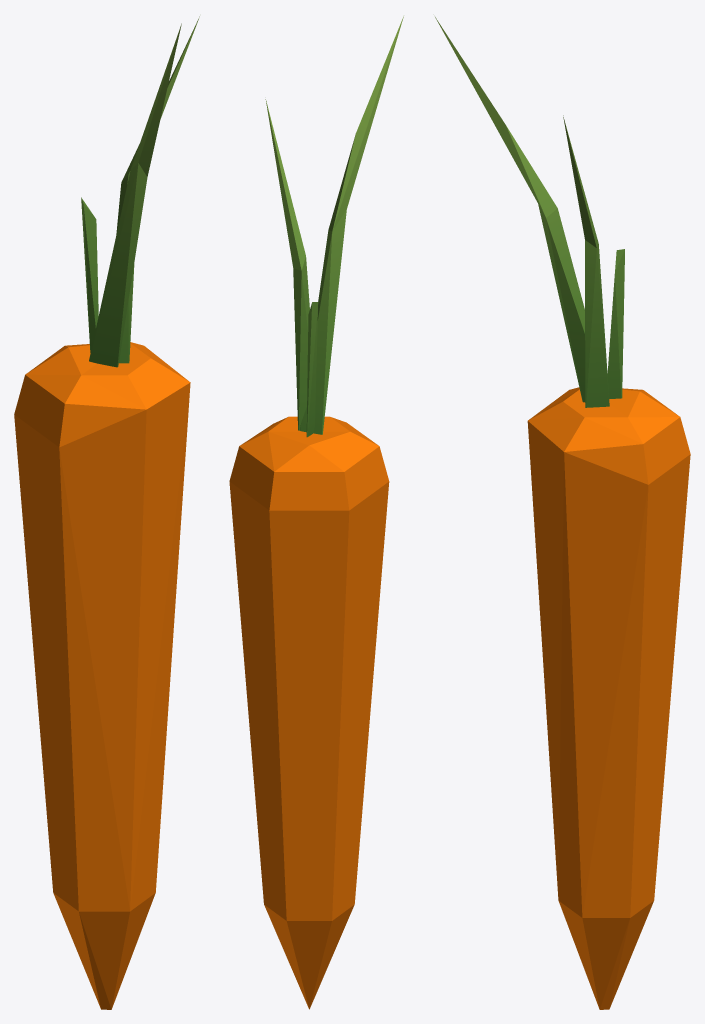
File: Food_05.fbx
The picture shows the model from 3 angles, left to right: view 1: azimuth 30°, elevation 25°; view 2: azimuth 150°, elevation 25°; view 3: azimuth 270°, elevation 25°; orthographic projection. The views are drawn at different scales.
Parts seen in each view (by area): view 1: Food_05; view 2: Food_05; view 3: Food_05.
Part boxes in pixels (box(x1,y1,x2,y2)): Food_05: box(14, 16, 199, 1009); Food_05: box(229, 16, 403, 1009); Food_05: box(435, 17, 690, 1009).
Bounding box in the file's own units: 3.87 × 27.82 × 6.56.
